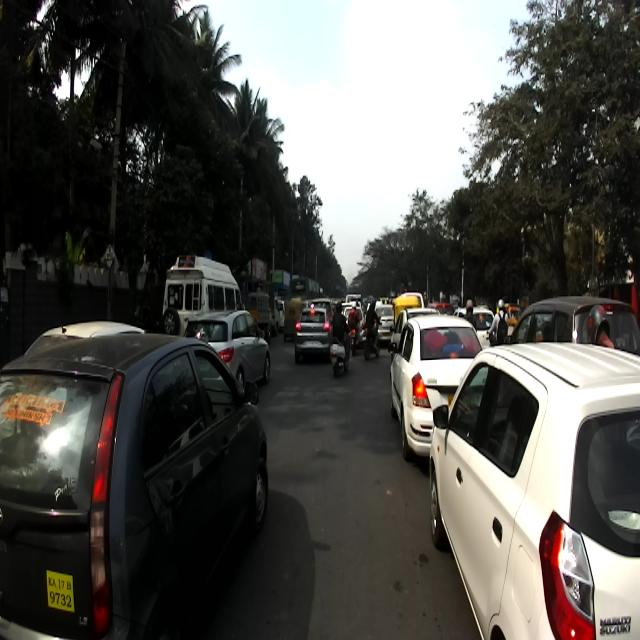car ahead at: (0, 341, 268, 639), (434, 338, 640, 640)
